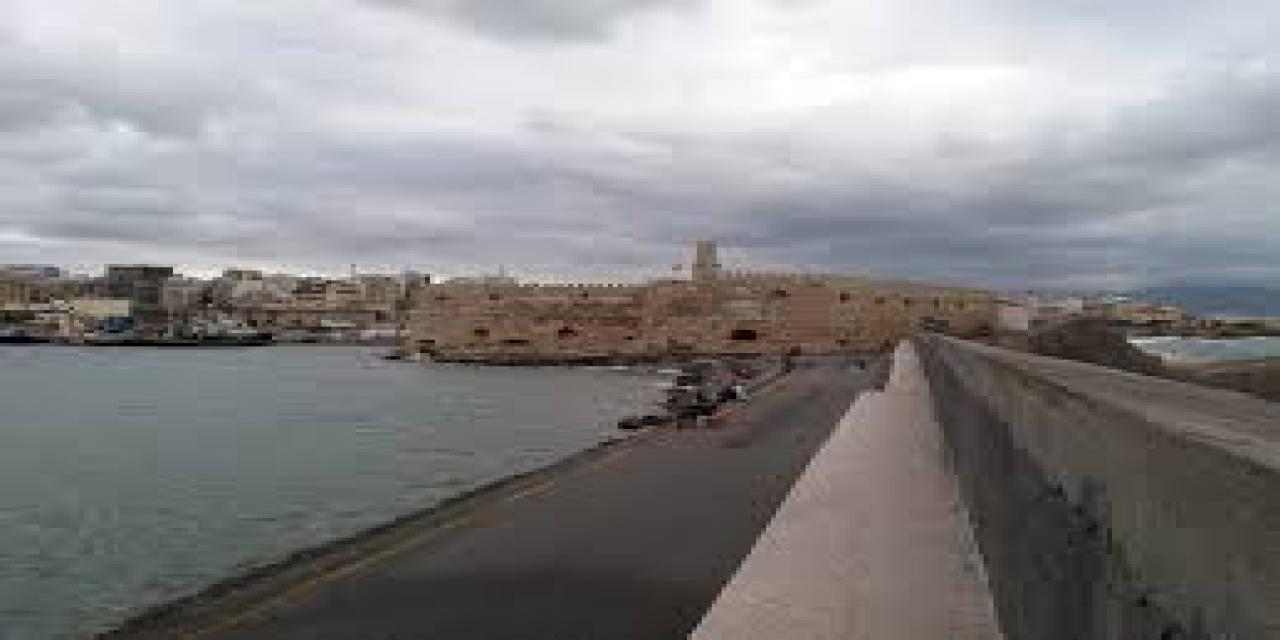Kules: (406, 266, 990, 358)
